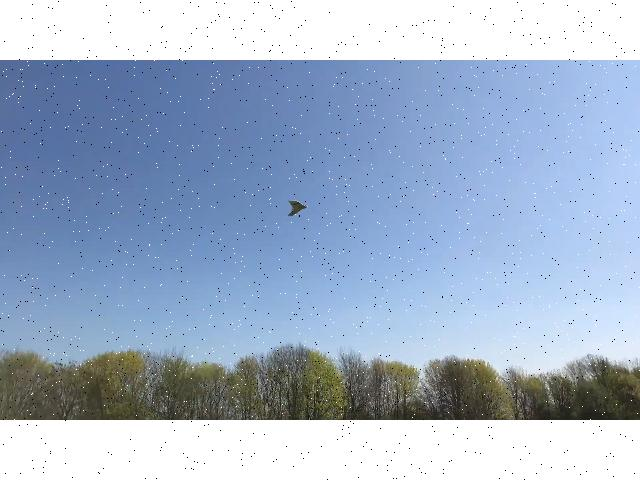Anti-Drone: (275, 188, 315, 222)
